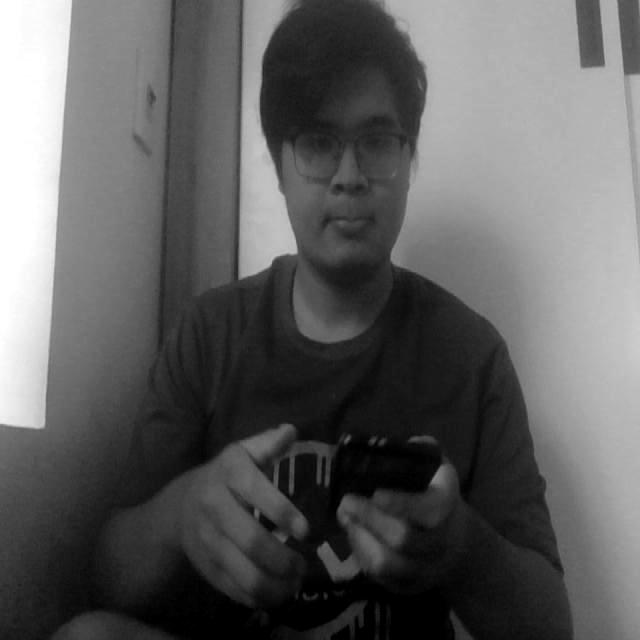phone: (328, 421, 442, 540)
